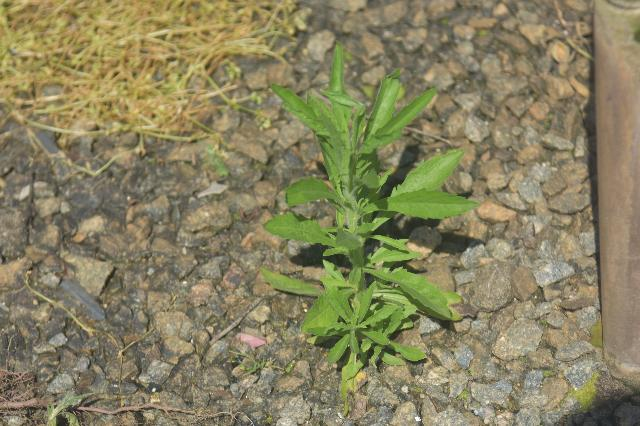MalezaMontesDelPlata: (251, 38, 483, 380)
